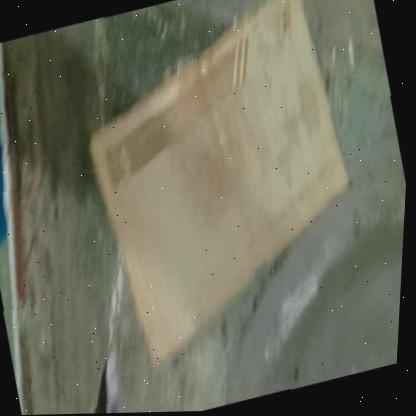five-back-vef: (57, 0, 389, 369)
